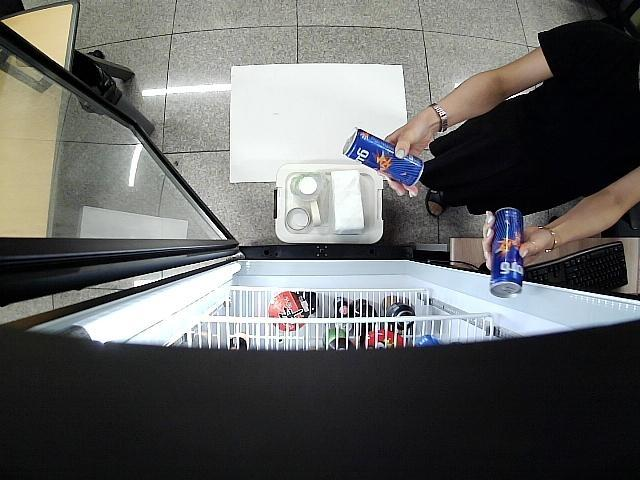16_hot6: (342, 128, 424, 188), (490, 204, 526, 298)
